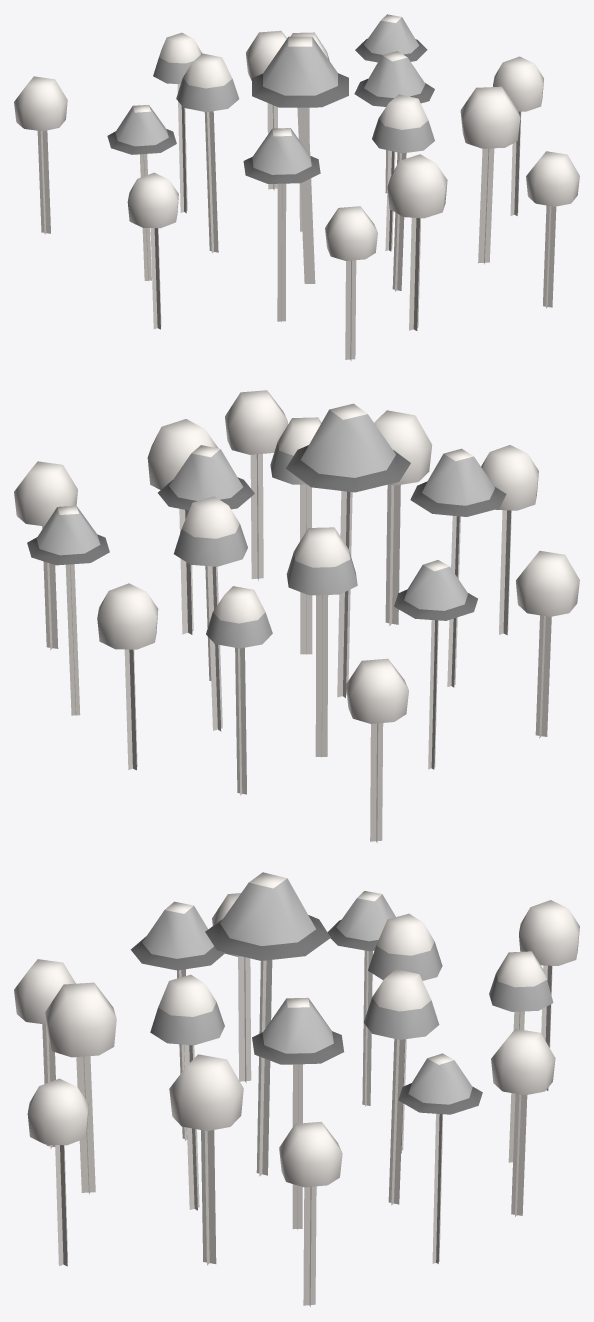
File: White_Mushrooms_Cluster_2.glb
3 views of the same model, one above another, from view 1: azimuth 30°, elevation 25°; view 2: azimuth 150°, elevation 25°; view 3: azimuth 270°, elevation 25° (orthographic). The views are drawn at different scales.
Parts seen in each view (by area): view 1: White_Mushrooms_Cluster_2; view 2: White_Mushrooms_Cluster_2; view 3: White_Mushrooms_Cluster_2.
Part boxes in pixels (left/top/right/bottom): White_Mushrooms_Cluster_2: left=14, top=14, right=579, bottom=360; White_Mushrooms_Cluster_2: left=14, top=390, right=579, bottom=842; White_Mushrooms_Cluster_2: left=14, top=872, right=579, bottom=1306.
Size of the model in its own units: 0.4065 by 0.2143 by 0.3793.
Materials: 1 (1 with a texture image).
